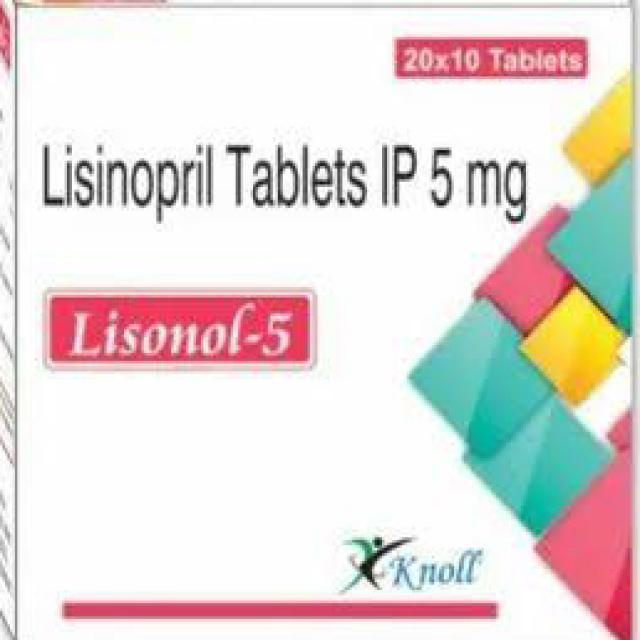drug-name: (69, 300, 297, 360)
